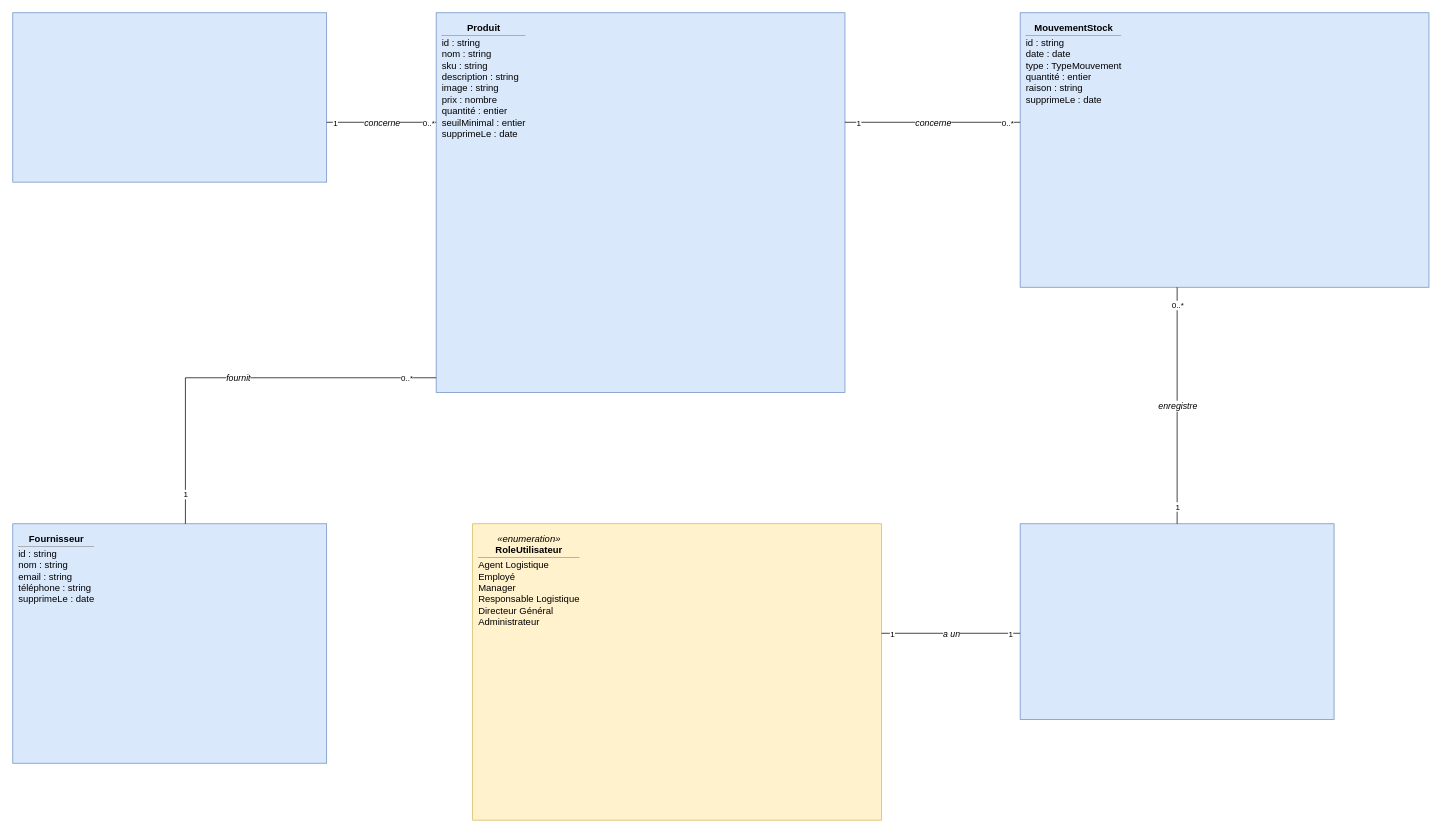
Image size: 1442x833. Some labels were removed from this diagram. Each missing label, with the box of its shape:
Catégorie id : string nom : string supprimeLe : date: (12, 12, 327, 182)
Utilisateur id : string nom : string email : string role : RoleUtilisateur: (1019, 523, 1334, 719)
